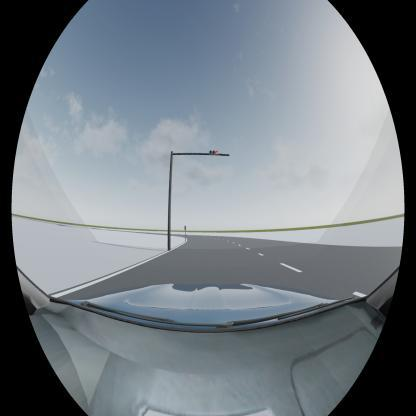Red Light: (209, 149, 218, 157)
